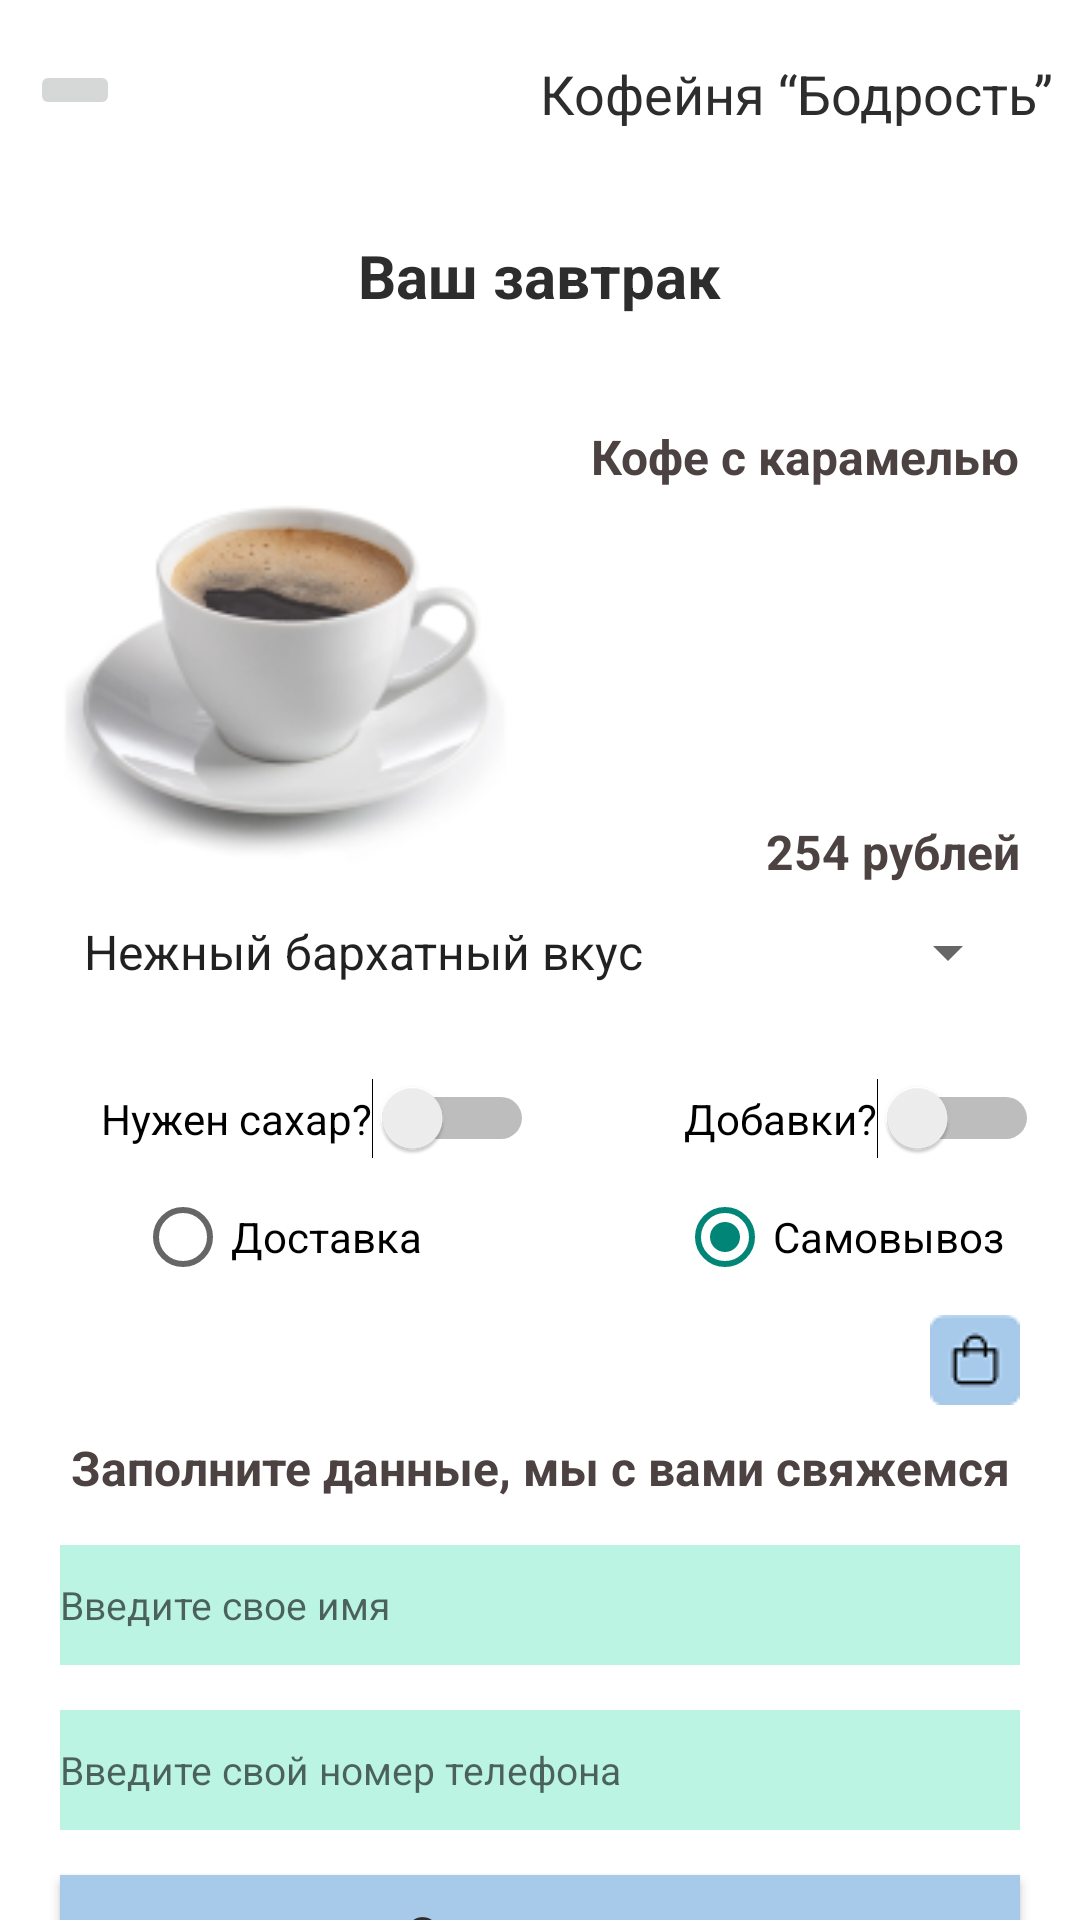

Icons on this 1080x1920 Android screen, each with the point to tap as (x,y):
corzina: (975,1360)
